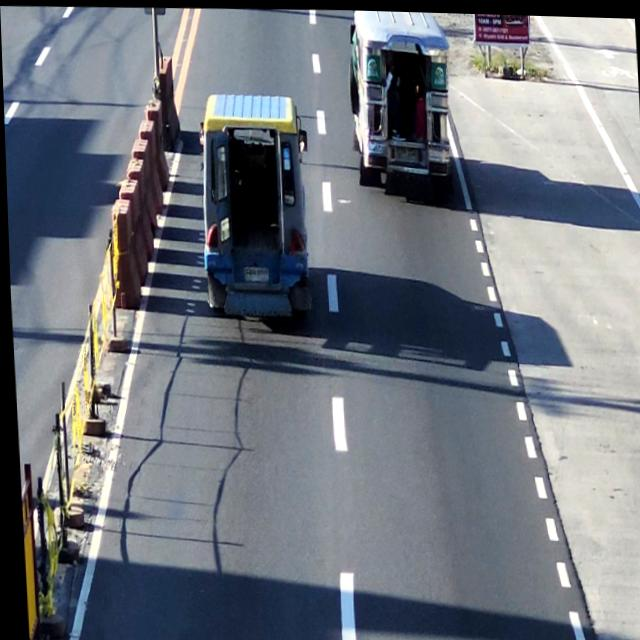Jeep: (194, 89, 310, 326), (346, 8, 449, 193)
License-Plate: (388, 143, 421, 163), (241, 264, 267, 282)
